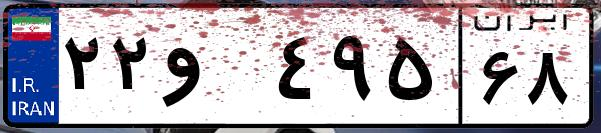2: (57, 26, 110, 100), (110, 28, 158, 98)
4: (270, 28, 330, 110)
5: (385, 28, 445, 110)
6: (475, 38, 525, 113)
8: (525, 38, 570, 115)
9: (330, 28, 385, 110)
و: (158, 20, 270, 120)
